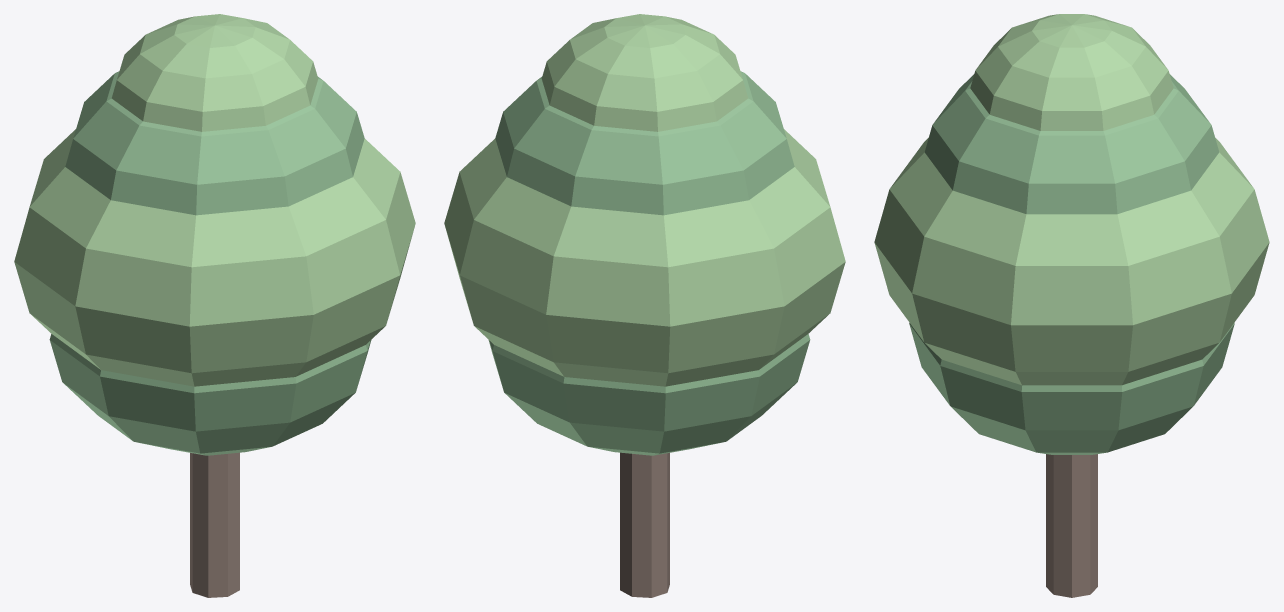
The model's file is tree-broad-01.glb.
3 renders of one model, left to right at view 1: azimuth 30°, elevation 25°; view 2: azimuth 150°, elevation 25°; view 3: azimuth 270°, elevation 25°, orthographic.
Parts seen in each view (by area): view 1: crown_1, crown_2, crown_0, crown_3, trunk; view 2: crown_1, crown_2, crown_0, crown_3, trunk; view 3: crown_1, crown_2, crown_3, crown_0, trunk.
Part boxes in pixels (x1,y1,x2,y2): crown_1: (14, 129, 415, 386); crown_2: (65, 71, 364, 215); crown_0: (49, 334, 371, 455); crown_3: (111, 14, 318, 131); trunk: (190, 452, 239, 597); crown_1: (444, 129, 845, 386); crown_2: (495, 71, 794, 215); crown_0: (488, 334, 810, 455); crown_3: (541, 14, 748, 131); trunk: (620, 452, 669, 597); crown_1: (874, 137, 1269, 385); crown_2: (924, 74, 1219, 214); crown_3: (970, 14, 1173, 130); crown_0: (909, 323, 1234, 454); trunk: (1046, 454, 1097, 597).
Bounding box in the file's own units: 1.82 × 2.87 × 1.83.
